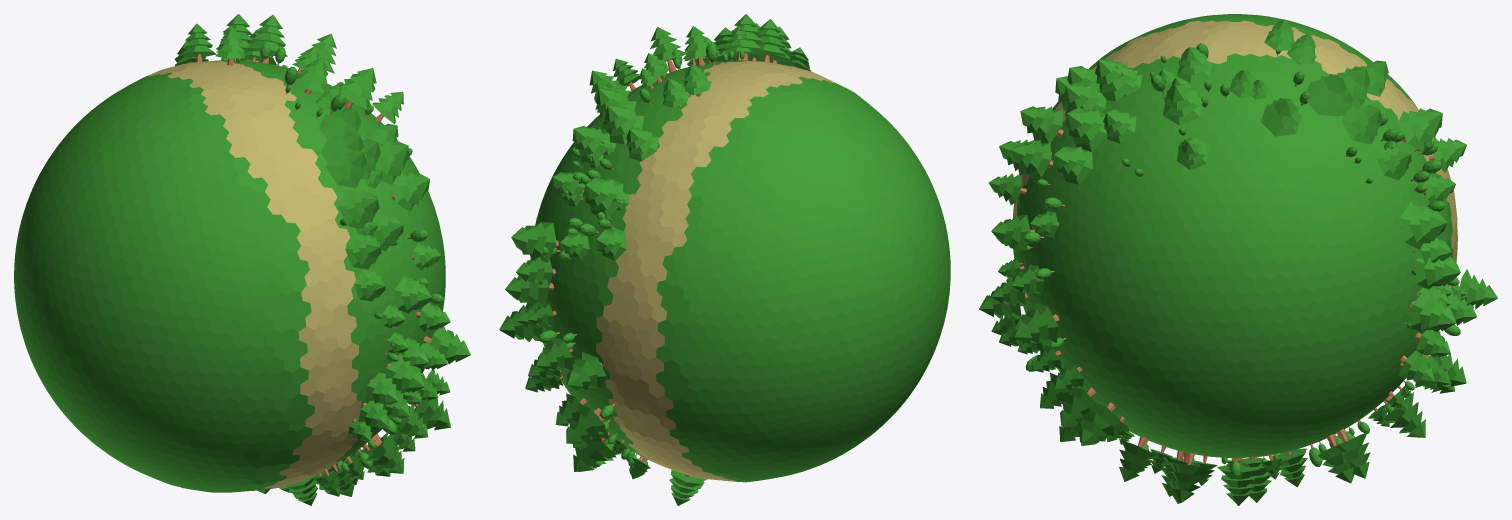
File: TreePlanet.glb
3 renders of one model, left to right at view 1: azimuth 30°, elevation 25°; view 2: azimuth 150°, elevation 25°; view 3: azimuth 270°, elevation 25°, orthographic. The views are drawn at different scales.
Parts seen in each view (by area): view 1: Icosphere; view 2: Icosphere; view 3: Icosphere.
Part boxes in pixels (x1,y1,x2,y2): Icosphere: (14, 14, 470, 505); Icosphere: (499, 14, 950, 505); Icosphere: (979, 14, 1497, 505).
Bounding box in the file's own units: 149 × 175 × 174.
